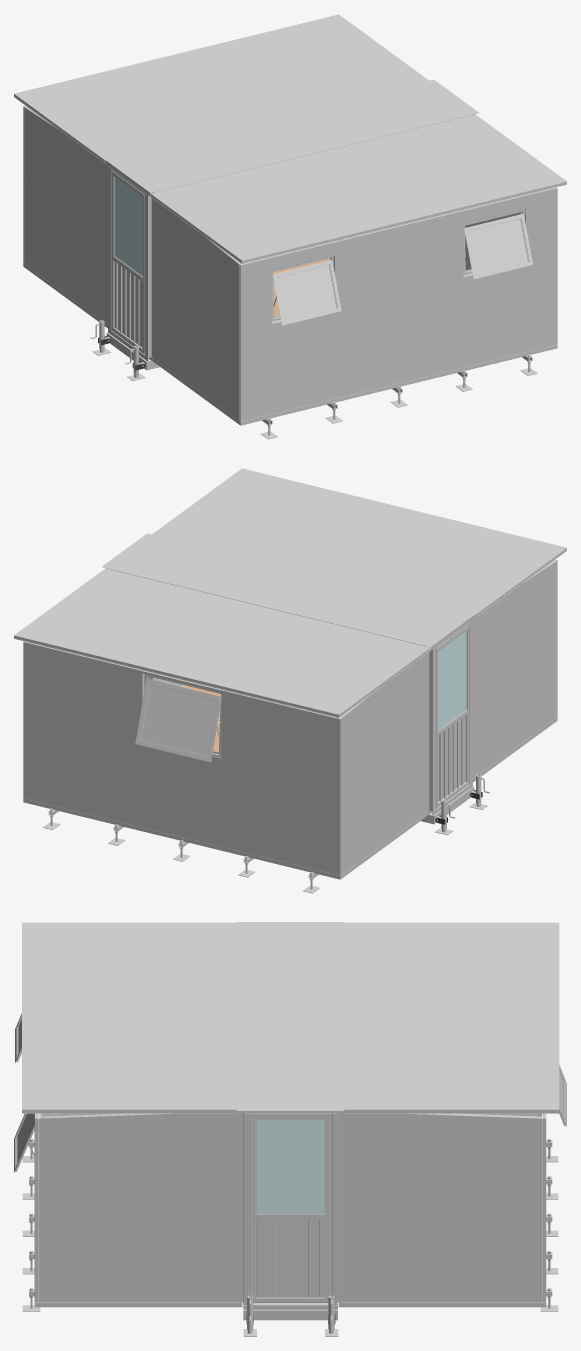
File: REFUGIO_COVID.glb
3 views of the same model, one above another, from view 1: azimuth 30°, elevation 25°; view 2: azimuth 150°, elevation 25°; view 3: azimuth 270°, elevation 25° (orthographic). The views are drawn at different scales.
Visible parts, largest first — view 1: REFUGIO COVID; view 2: REFUGIO COVID; view 3: REFUGIO COVID.
Boxes of the visible parts, left/top/right/bottom form: REFUGIO COVID: left=14, top=14, right=566, bottom=439; REFUGIO COVID: left=14, top=468, right=566, bottom=893; REFUGIO COVID: left=14, top=922, right=566, bottom=1336.
Size of the model in its own units: 5.6 by 2.74 by 6.26.
Materials: 10 (2 with a texture image).
